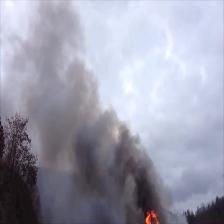smoke: (44, 80, 101, 147), (83, 153, 146, 192)
